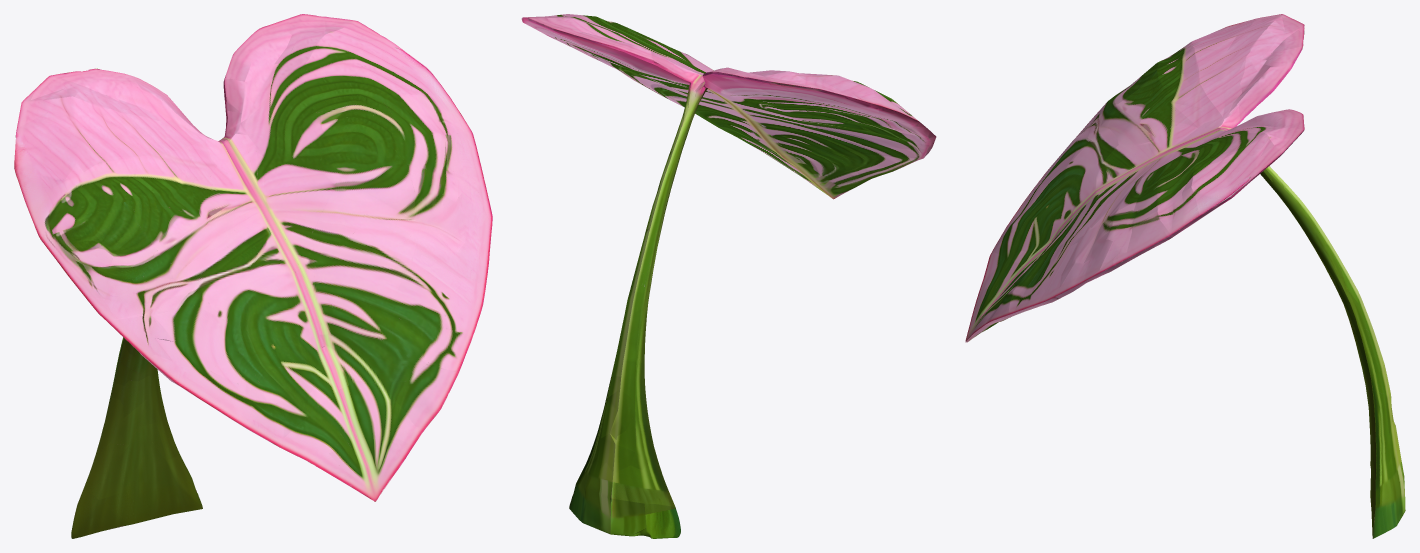
Rendered from pp_leaf_mature_half.glb.
3 views of the same model, side by side, from view 1: azimuth 30°, elevation 25°; view 2: azimuth 150°, elevation 25°; view 3: azimuth 270°, elevation 25° (orthographic). The views are drawn at different scales.
Size of the model in its own units: 1.68 by 1.9 by 1.74.
Materials: 1 (1 with a texture image).
